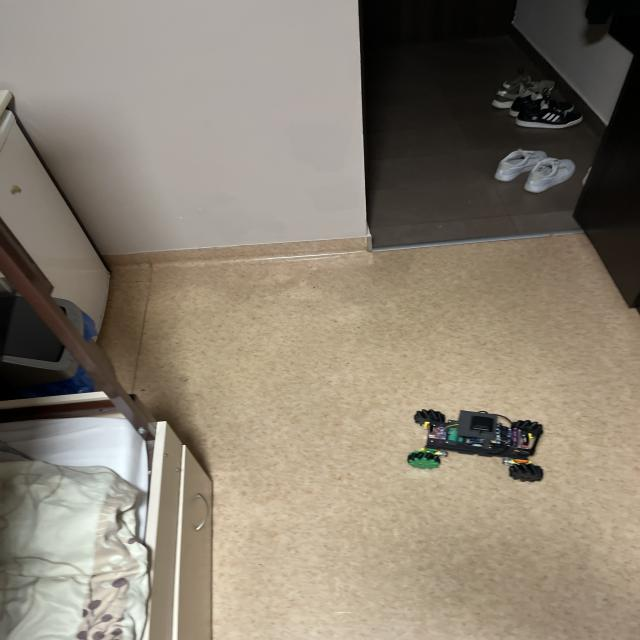robot: (407, 409, 543, 481)
